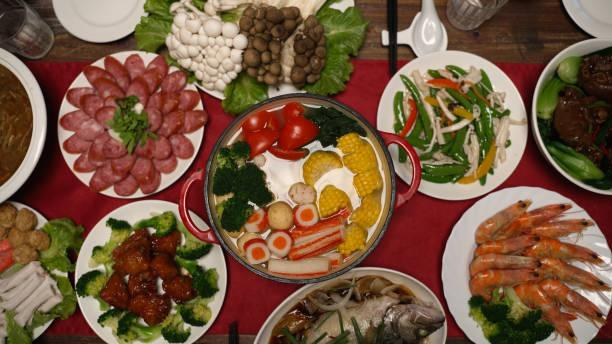Braised Crucian Carp: (184, 93, 412, 286), (440, 186, 608, 342), (374, 51, 525, 203), (74, 199, 226, 342), (56, 50, 202, 197), (156, 0, 354, 101), (248, 265, 444, 342), (530, 37, 612, 196)
